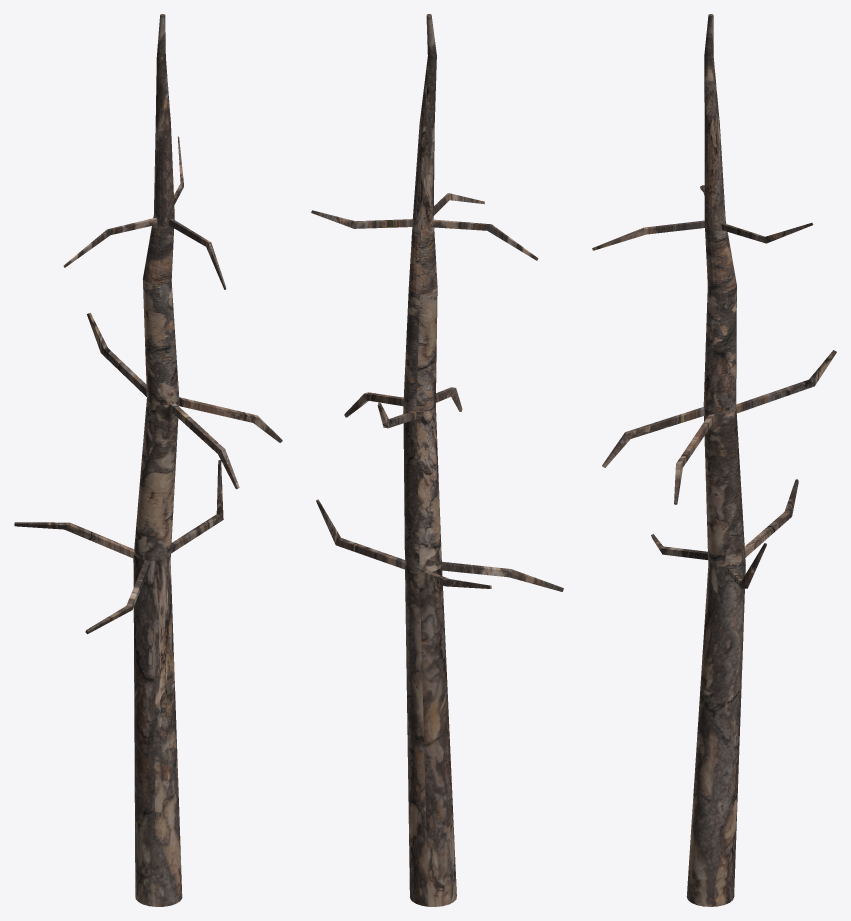
Rendered from Tree.fbx.
The picture shows the model from 3 angles, left to right: view 1: azimuth 30°, elevation 25°; view 2: azimuth 150°, elevation 25°; view 3: azimuth 270°, elevation 25°; orthographic projection.
Parts seen in each view (by area): view 1: pCylinder1; view 2: pCylinder1; view 3: pCylinder1.
Part boxes in pixels (left/top/right/bottom): pCylinder1: left=14, top=14, right=282, bottom=906; pCylinder1: left=311, top=14, right=563, bottom=906; pCylinder1: left=592, top=14, right=836, bottom=906.
Size of the model in its own units: 8.95 by 36.28 by 9.11.
1 material, 1 textured.
